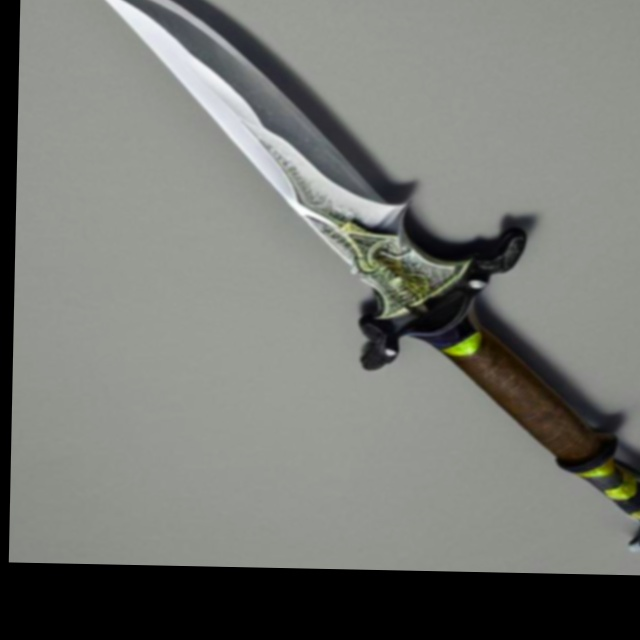Sharp-Object: (63, 0, 640, 559)
